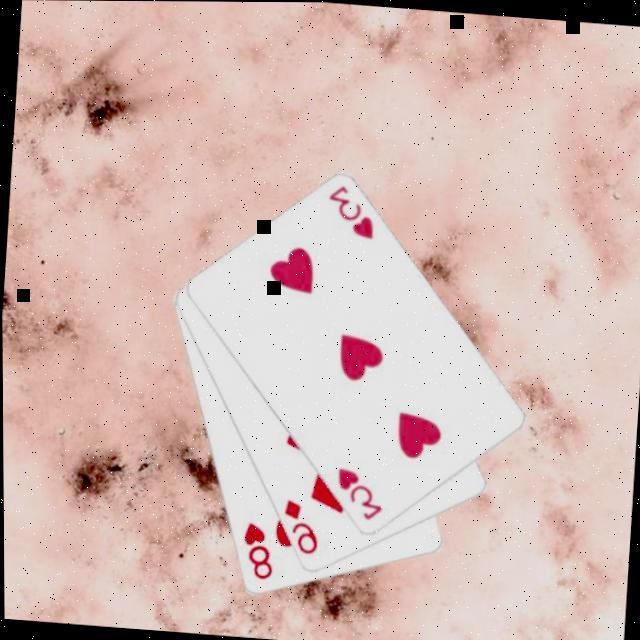3H: (324, 179, 381, 241), (331, 462, 388, 522)
8H: (238, 518, 279, 582)
9D: (278, 494, 324, 557)
